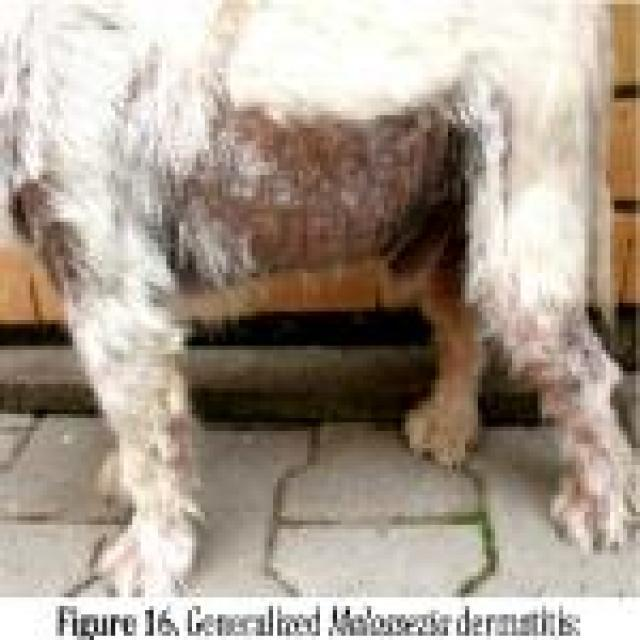fungal infection: (190, 117, 460, 273), (501, 297, 640, 536), (104, 360, 200, 512), (417, 298, 484, 446), (12, 174, 106, 278)
